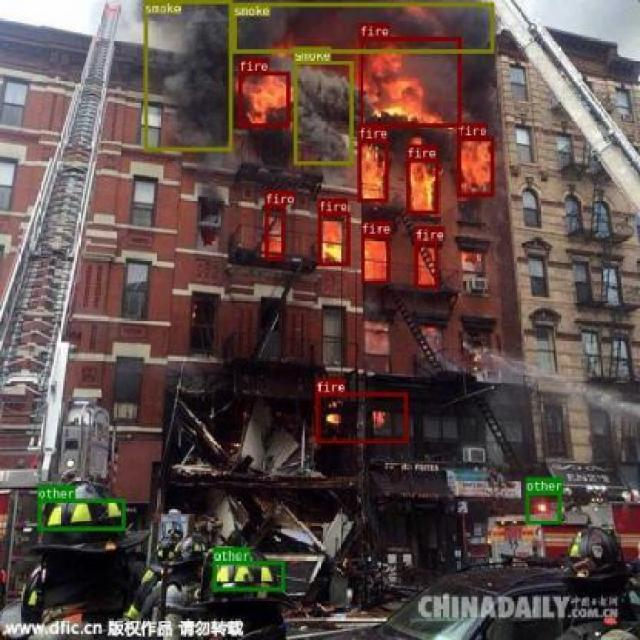Fire: (358, 36, 460, 127), (314, 392, 408, 442), (238, 70, 290, 126), (456, 134, 494, 197), (357, 138, 388, 202), (406, 158, 439, 214), (316, 212, 349, 266), (360, 233, 389, 282), (264, 203, 284, 260), (414, 239, 437, 287)
Smoke: (232, 2, 494, 53), (143, 0, 231, 149), (294, 59, 352, 164)
